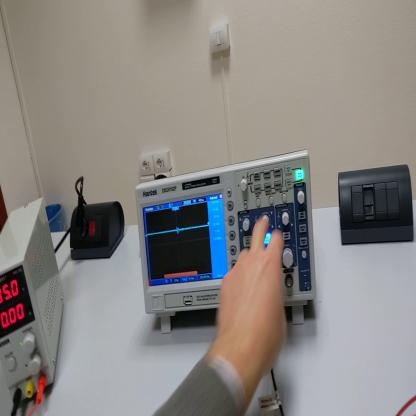hand: (215, 212, 287, 376)
oscilloscope: (136, 144, 319, 341)
power supply: (2, 196, 67, 405)
socket: (68, 201, 127, 263)
